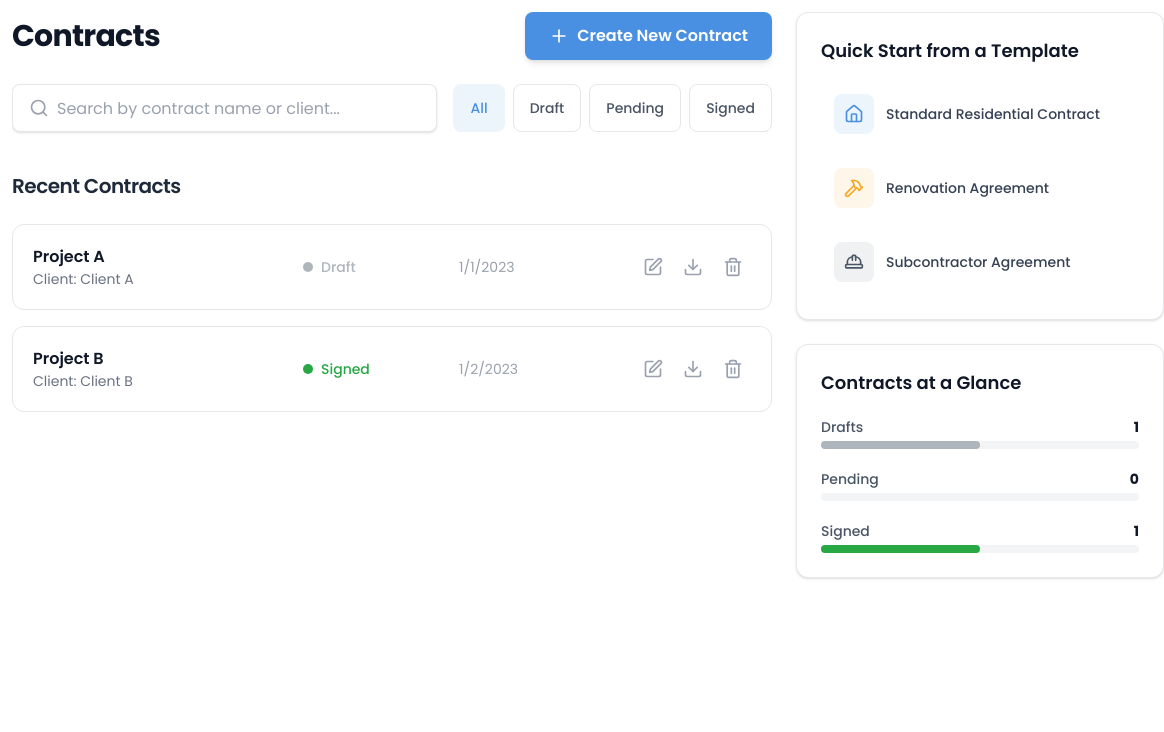
ContractsPage › filters contracts by status
expect the heading "Project A" is shown: met, box [33,245,105,268]
Click the button "Signed": (731, 108) [689,84,772,132]
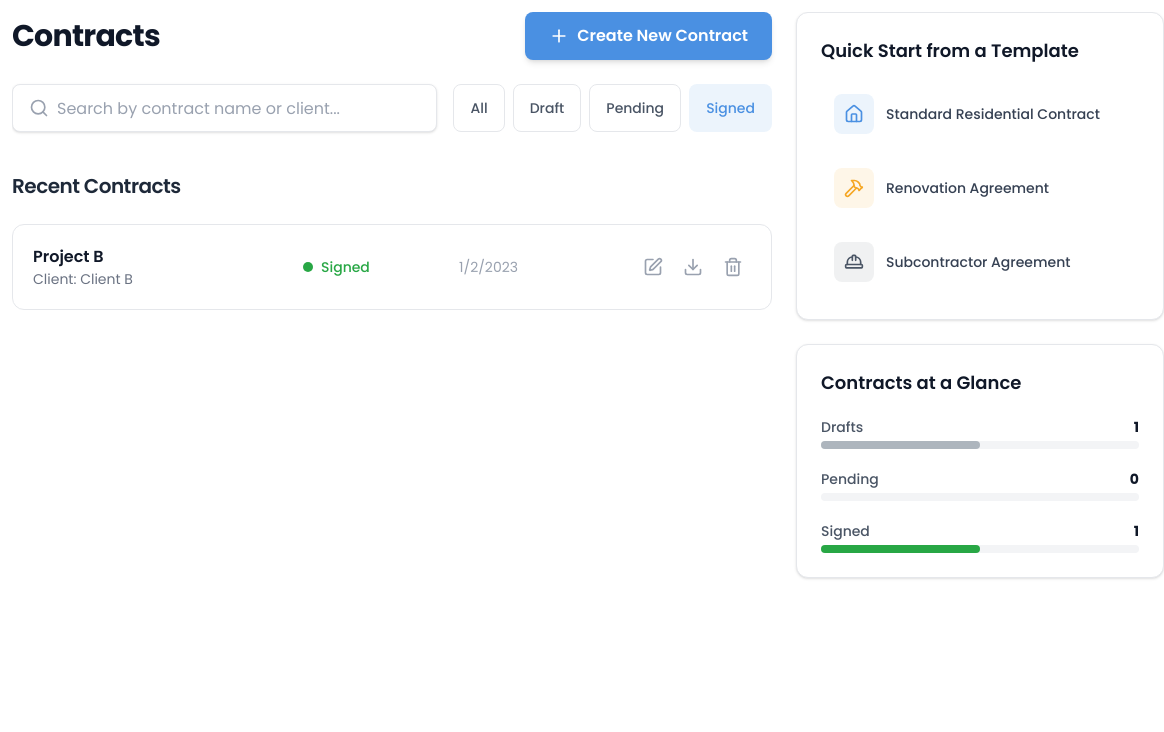
expect the heading "Project B" is shown: met, box [33,245,104,268]
expect the heading "Project A" is gone: met
